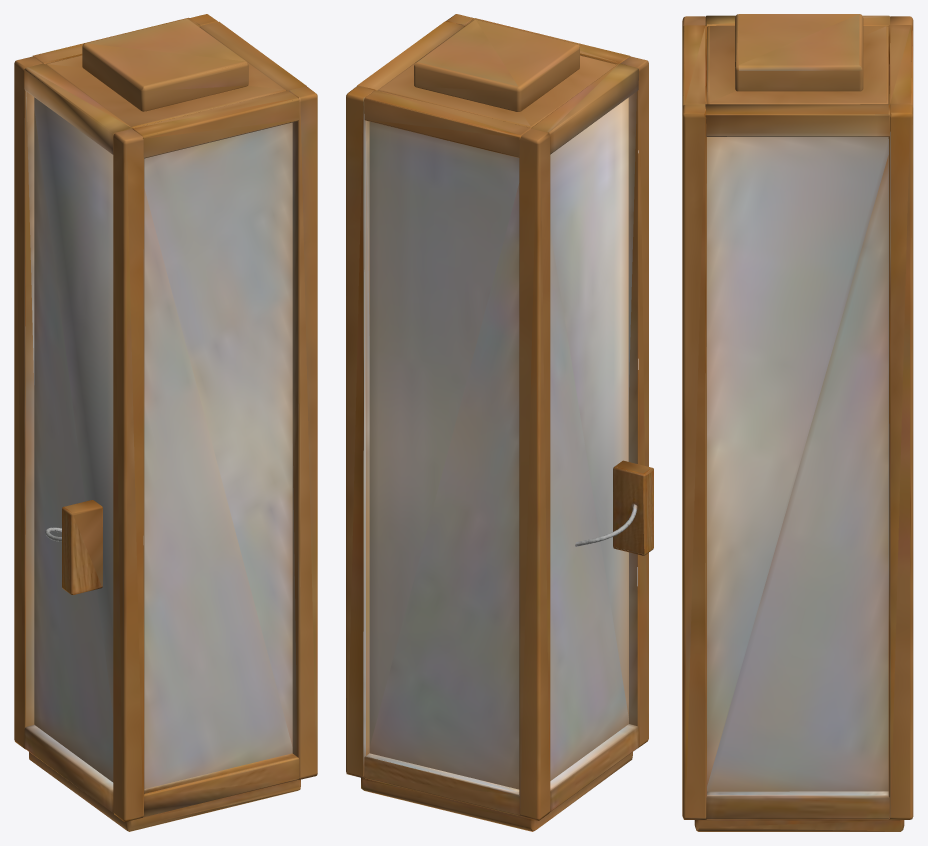
The model's file is lantern.glb.
3 views of the same model, side by side, from view 1: azimuth 30°, elevation 25°; view 2: azimuth 150°, elevation 25°; view 3: azimuth 270°, elevation 25° (orthographic). The views are drawn at different scales.
Parts seen in each view (by area): view 1: tripo_node_bb22b260-cef4-4904-bf8a-f44301790871; view 2: tripo_node_bb22b260-cef4-4904-bf8a-f44301790871; view 3: tripo_node_bb22b260-cef4-4904-bf8a-f44301790871.
Boxes of the visible parts, box(x1,y1,x2,y2) form: tripo_node_bb22b260-cef4-4904-bf8a-f44301790871: box(14, 14, 317, 831); tripo_node_bb22b260-cef4-4904-bf8a-f44301790871: box(346, 14, 653, 831); tripo_node_bb22b260-cef4-4904-bf8a-f44301790871: box(682, 14, 913, 831).
Bounding box in the file's own units: 0.3828 × 1.2 × 0.3302.
1 material, 1 textured.
